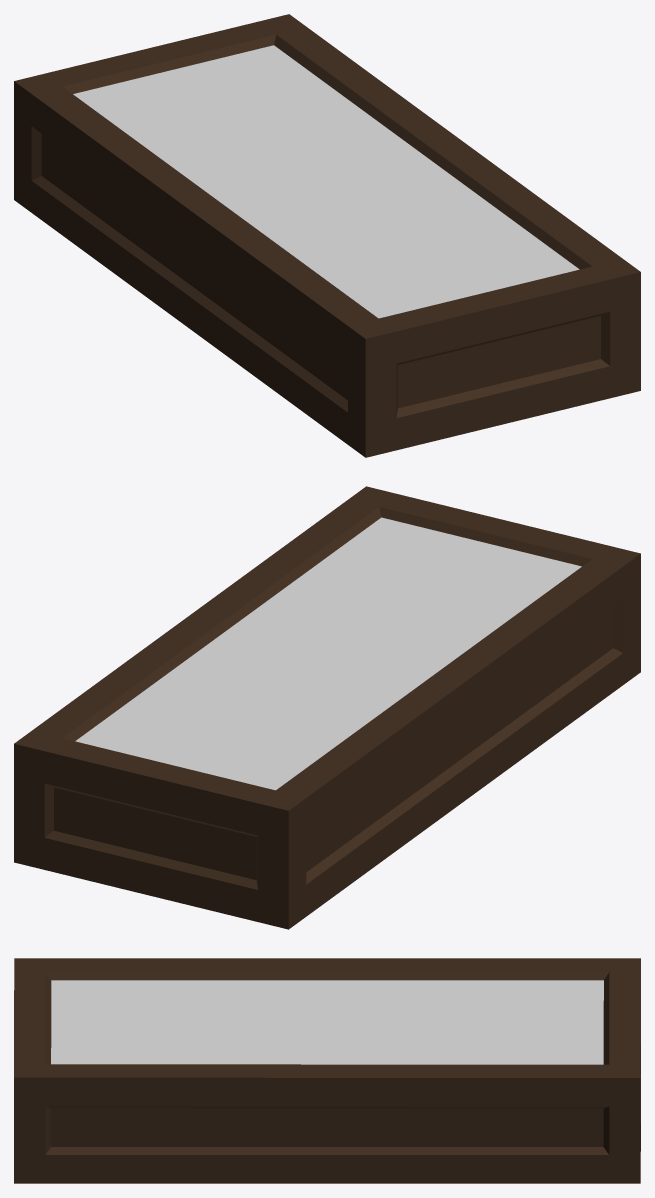
The model's file is box_1_snow_mat.fbx.
3 renders of one model, top to bottom at view 1: azimuth 30°, elevation 25°; view 2: azimuth 150°, elevation 25°; view 3: azimuth 270°, elevation 25°, orthographic. The views are drawn at different scales.
Parts seen in each view (by area): view 1: box_1_snow_mat; view 2: box_1_snow_mat; view 3: box_1_snow_mat.
Part boxes in pixels (box(x1,y1,x2,y2)): box_1_snow_mat: box(14, 14, 640, 457); box_1_snow_mat: box(14, 486, 640, 929); box_1_snow_mat: box(14, 958, 640, 1183).
Bounding box in the file's own units: 34.71 × 14.3 × 76.84.
